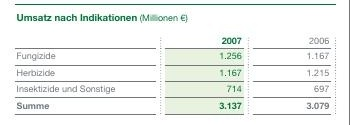table: (0, 0, 351, 125)
